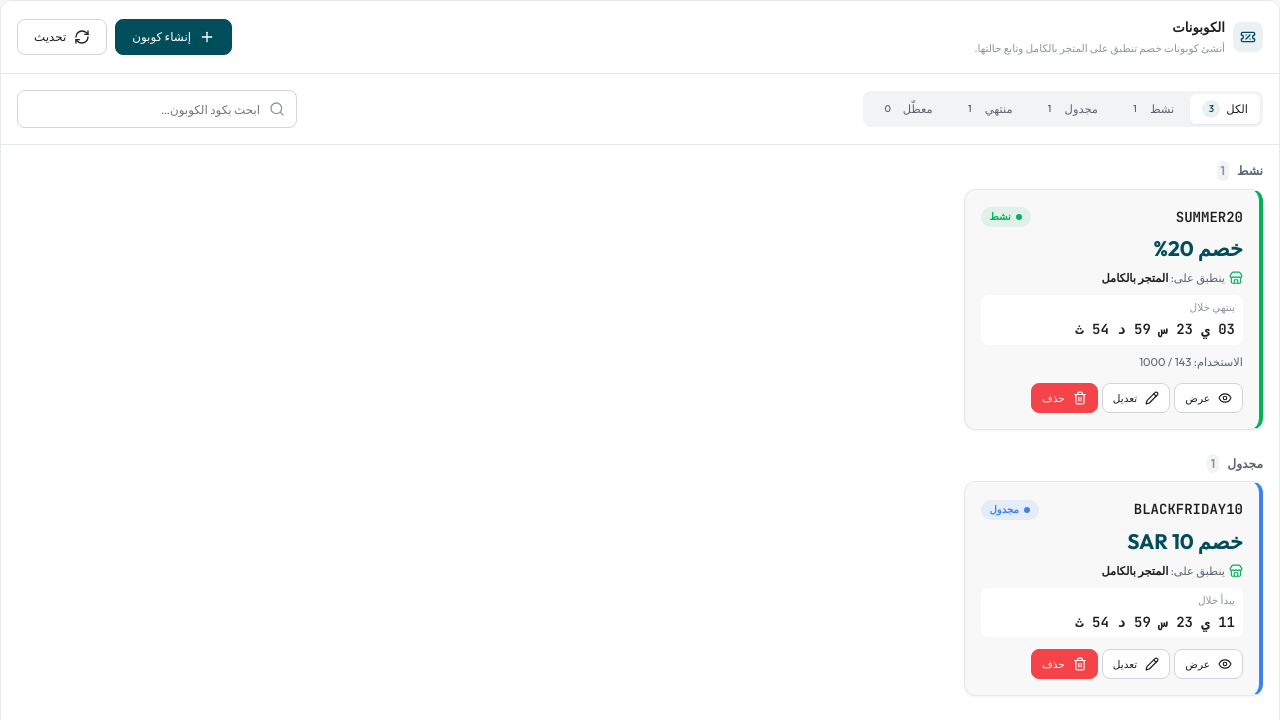
CouponsTab › shows Salla's rejection reason and field errors
This screenshot has width=1280, height=720.
What coordinates should you click on to do the following:
click the button with aria-label "تعديل SUMMER20"
I would click on:
 (1136, 398)
Its box is x1=1102 y1=383 x2=1170 y2=413.
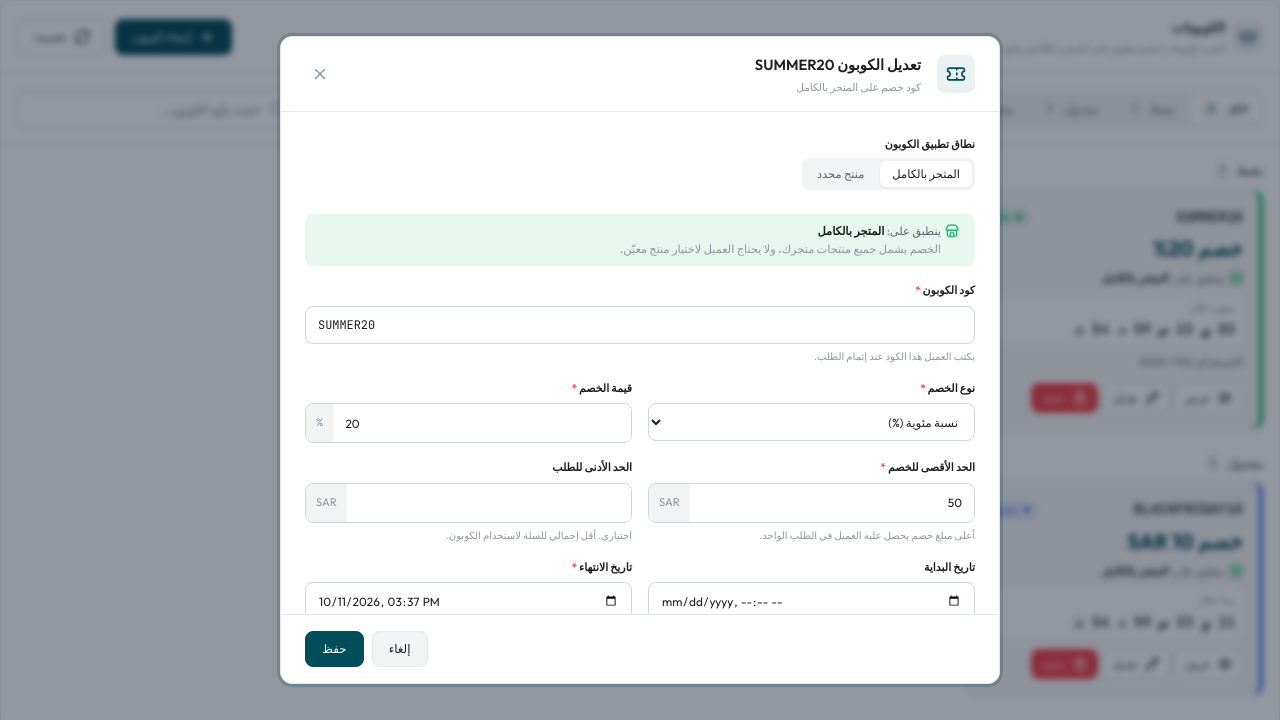
What coordinates should you click on to do the following:
click the button "حفظ"
I would click on:
 (334, 649)
Its box is x1=305 y1=631 x2=364 y2=667.
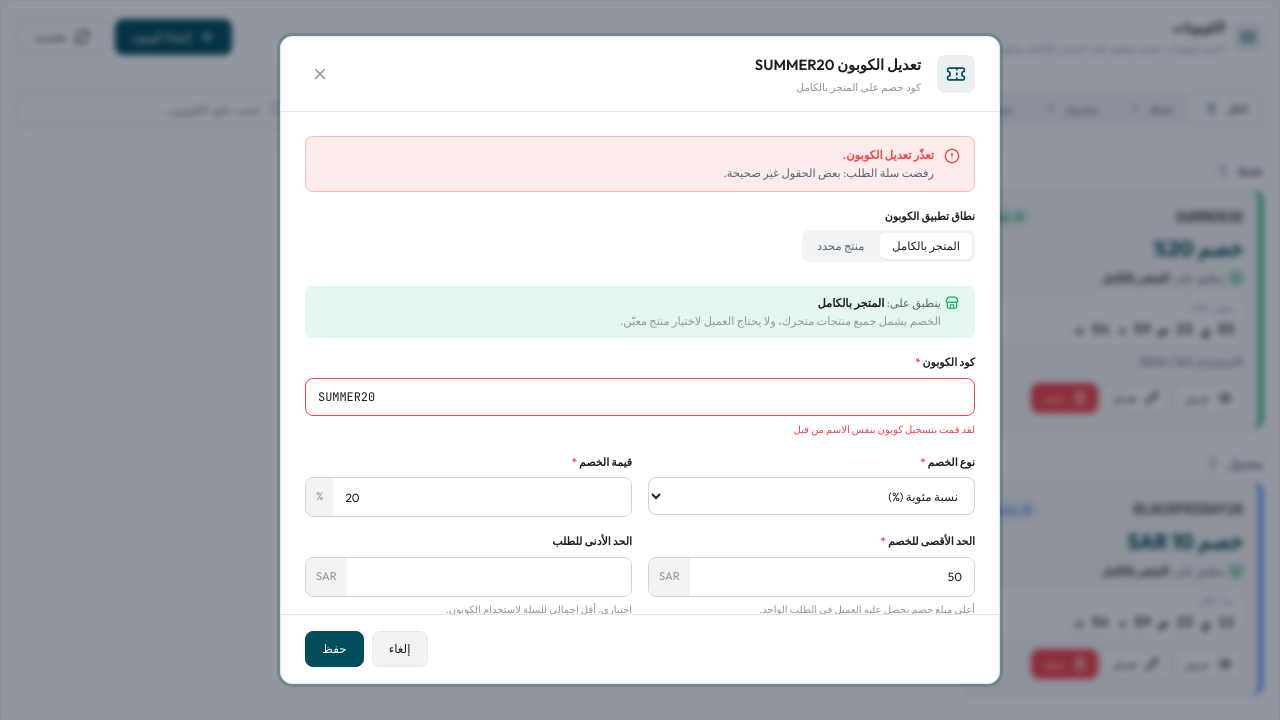
expect the text "تعذّر تعديل الكوبون." is shown: met, box x1=843 y1=148 x2=934 y2=162
expect the text "رفضت سلة الطلب: بعض الحقول غير صحيحة." is shown: met, box x1=724 y1=166 x2=934 y2=180
expect the text "لقد قمت بتسجيل كوبون بنفس الاسم من قبل" is shown: met, box x1=793 y1=423 x2=975 y2=436
